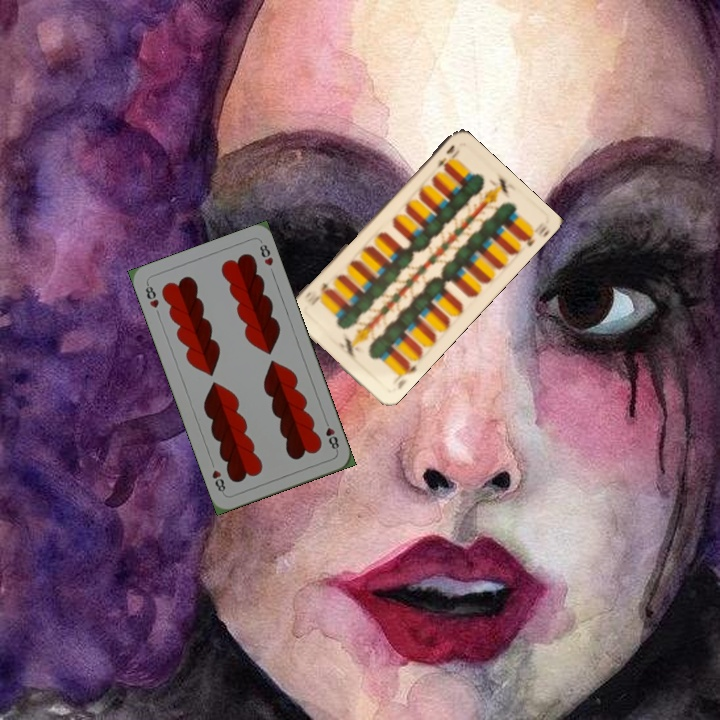E10: (393, 357, 419, 392), (432, 140, 458, 171)
H8: (320, 415, 342, 454), (141, 279, 162, 311)
